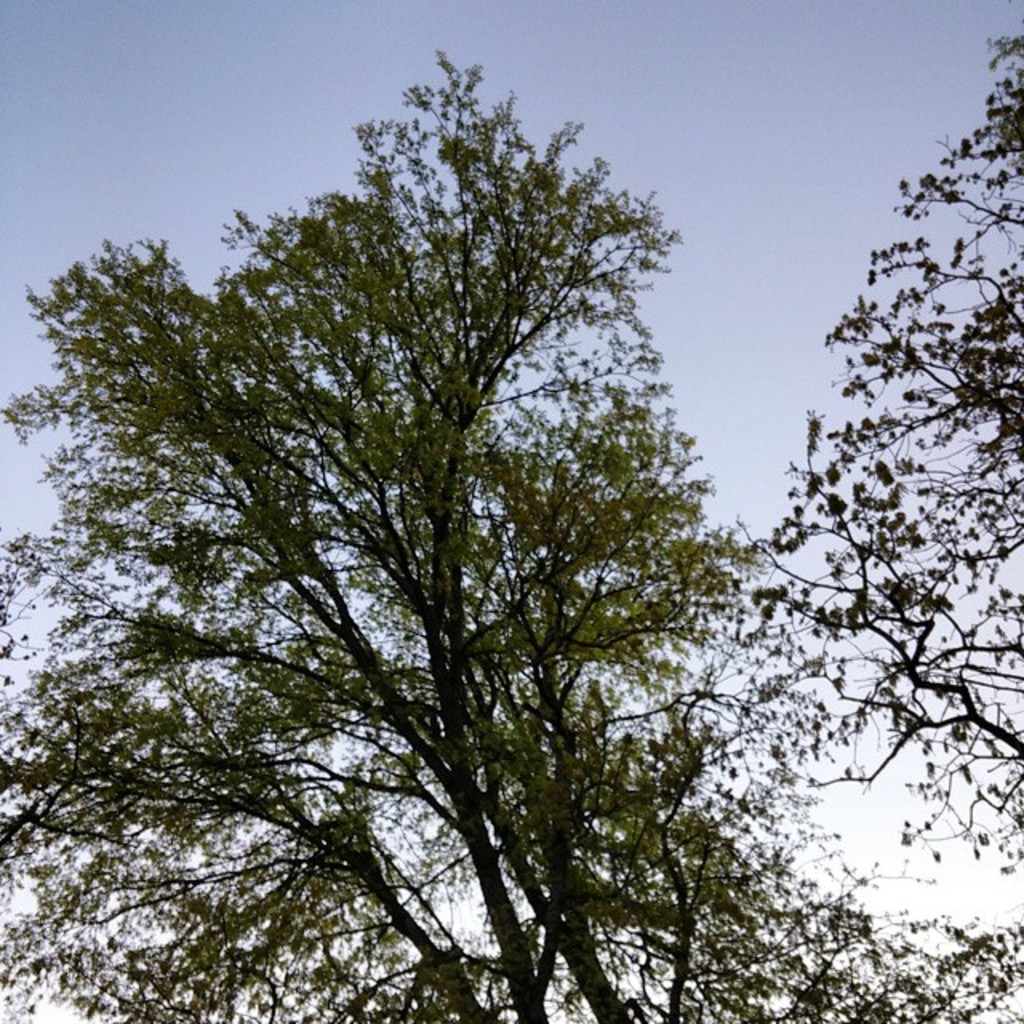Tree: (0, 12, 1024, 1024)
